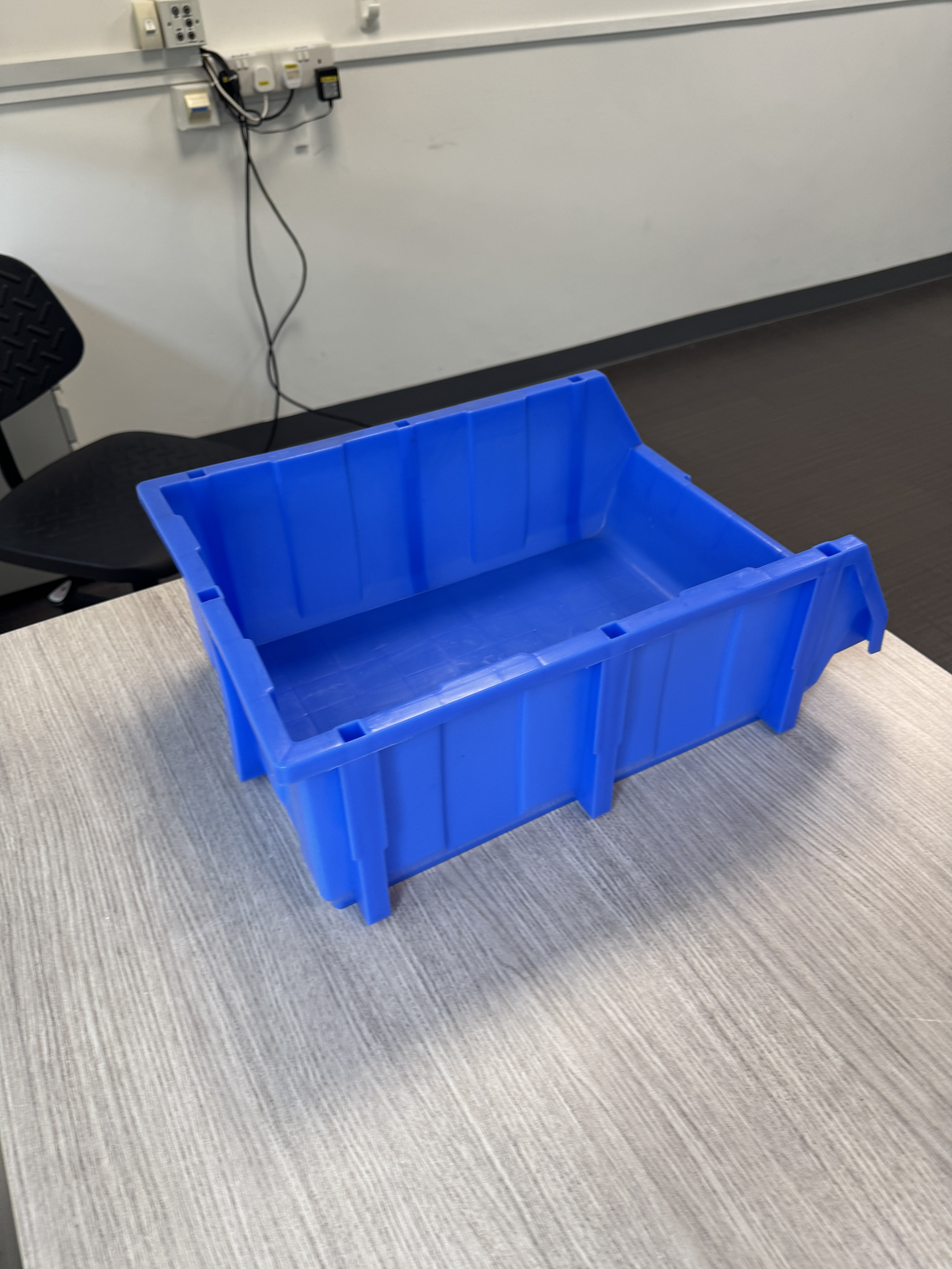Bin Boundary: (169, 341, 809, 759)
